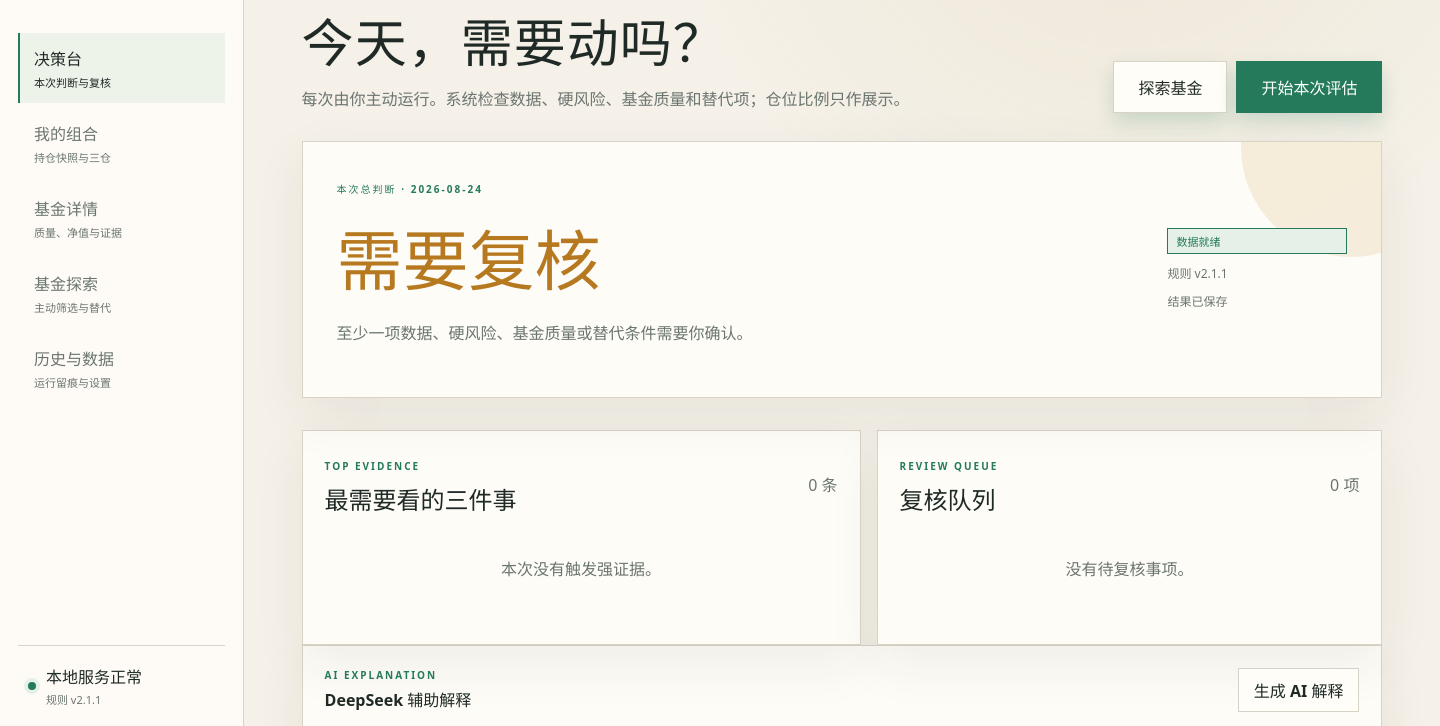
Test case: 基金仓位决策台 › generates an AI explanation only after the user clicks
Expected: the text "AI 只解释现有复核结果。" is not shown
Click the button "生成 AI 解释". click: (1299, 690)
box: left=1238, top=668, right=1359, bottom=712
(page scrolled)
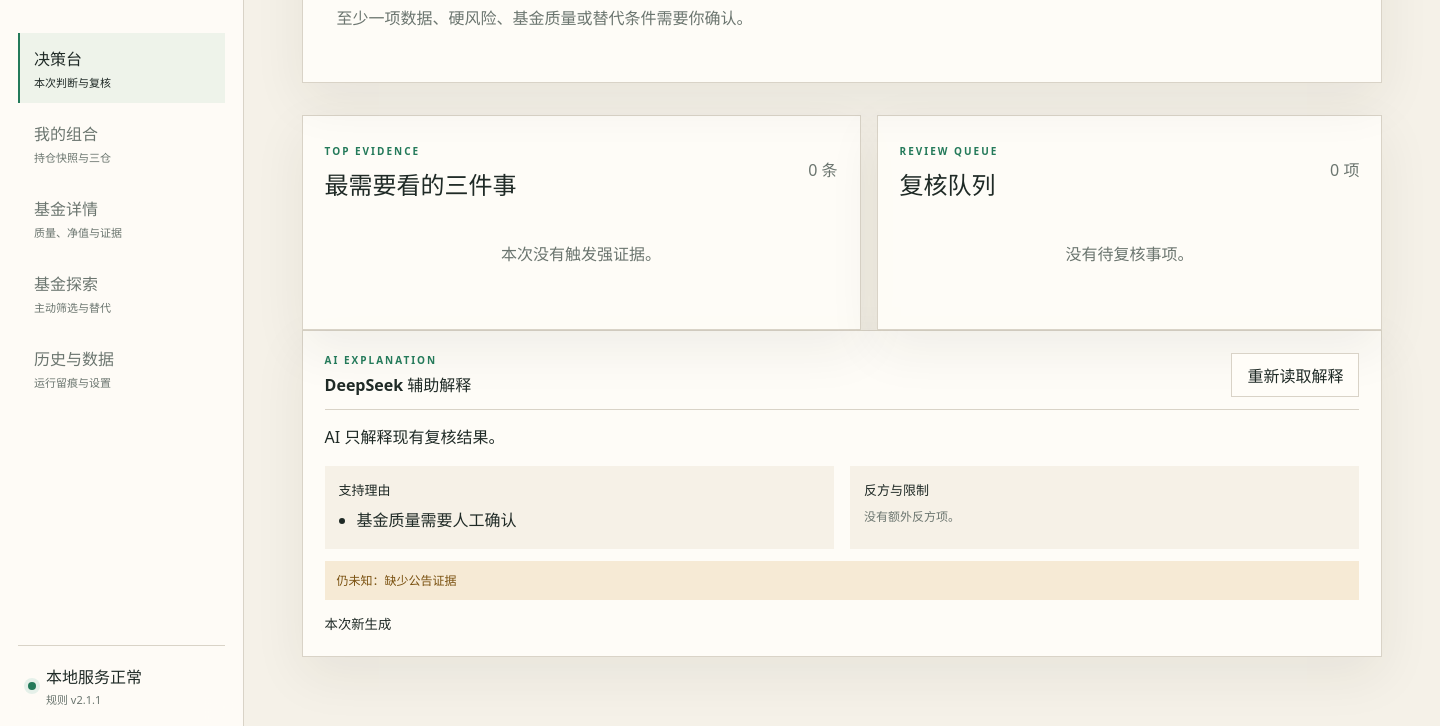
Now the text "AI 只解释现有复核结果。" is shown, box left=325, top=426, right=504, bottom=448
Now the text "仍未知：缺少公告证据" is shown, box left=325, top=560, right=1359, bottom=600
